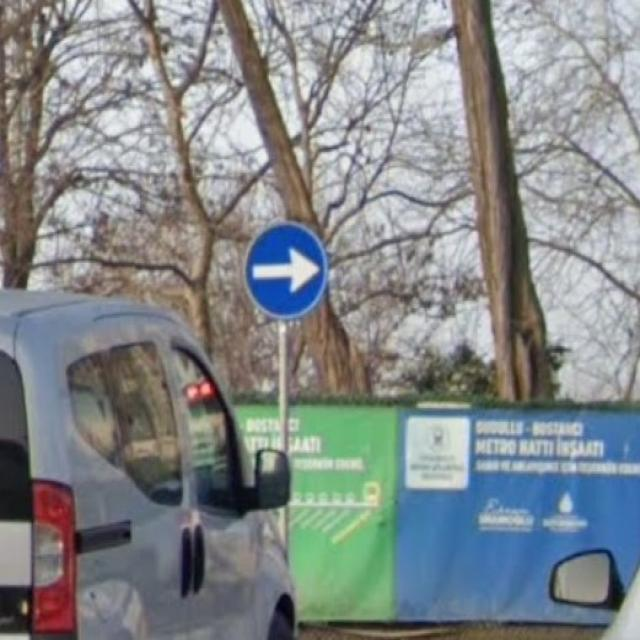Turn Right: (246, 220, 332, 319)
